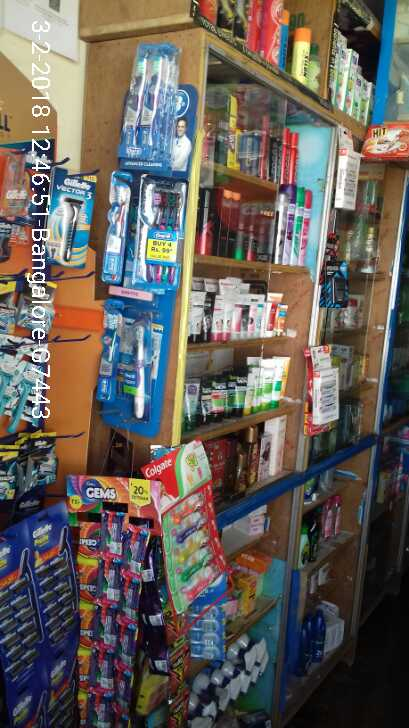beauty: (46, 178, 93, 263)
pharmacy: (107, 174, 187, 296), (96, 304, 163, 423), (122, 49, 182, 174)
